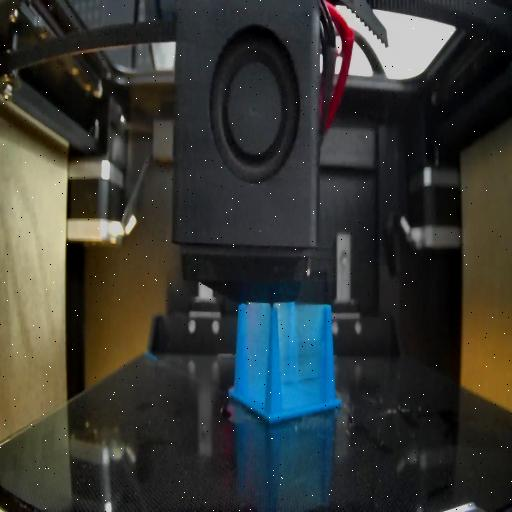stringing: (276, 308, 330, 416), (240, 304, 270, 410)
